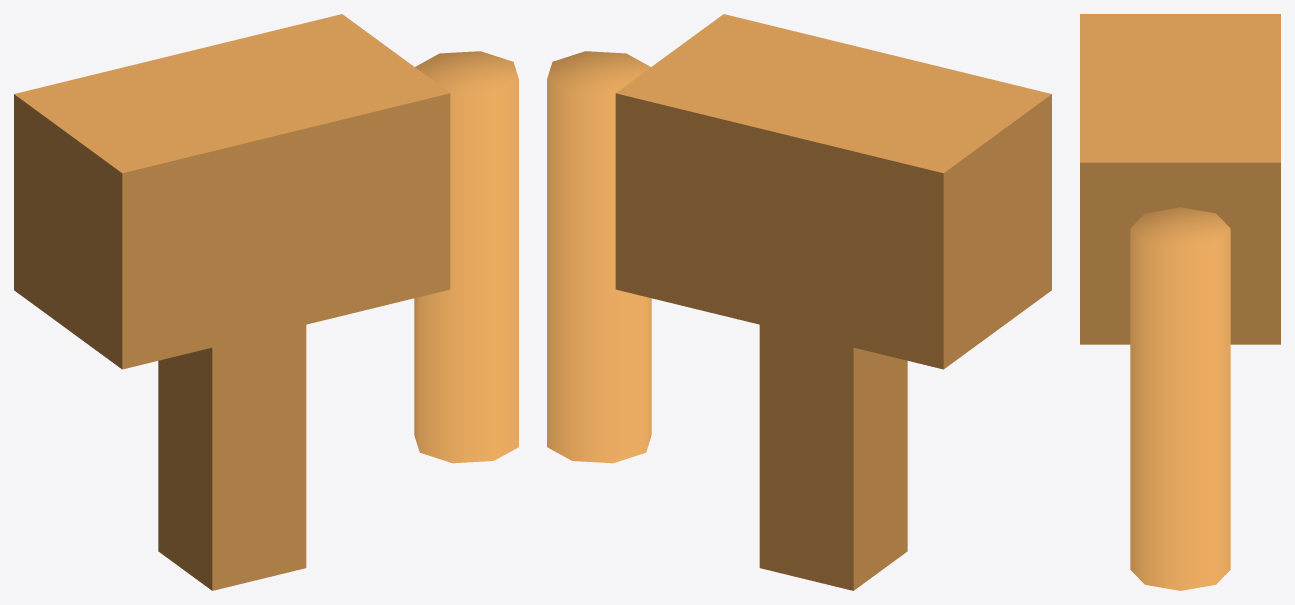
Rendered from 03_drill.glb.
3 views of the same model, side by side, from view 1: azimuth 30°, elevation 25°; view 2: azimuth 150°, elevation 25°; view 3: azimuth 270°, elevation 25° (orthographic). The views are drawn at different scales.
Parts seen in each view (by area): view 1: handwerk_03_drill; view 2: handwerk_03_drill; view 3: handwerk_03_drill.
Part boxes in pixels (box(x1,y1,x2,y2)): handwerk_03_drill: box(14, 14, 518, 590); handwerk_03_drill: box(547, 14, 1051, 590); handwerk_03_drill: box(1080, 14, 1280, 590).
Bounding box in the file's own units: 0.38 × 0.38 × 0.16.
